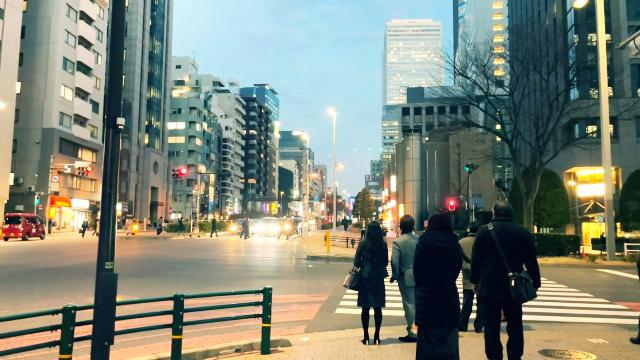berdiri: (472, 200, 542, 360), (410, 210, 464, 360), (392, 209, 433, 343), (352, 216, 390, 346)
